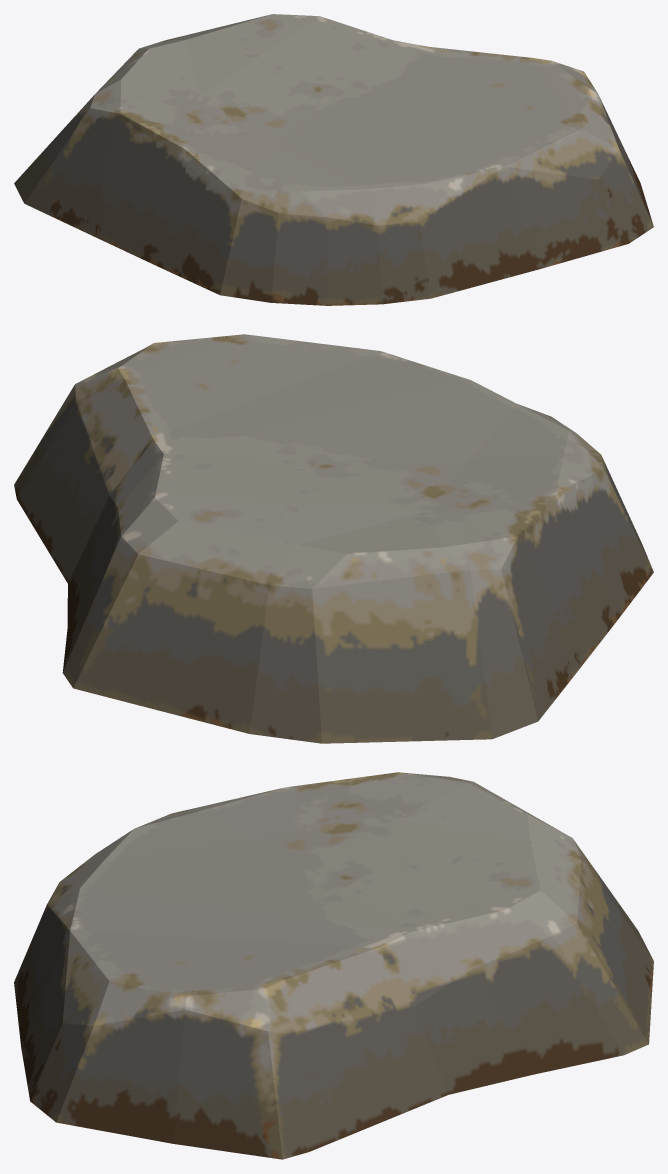
File: Pebble_Round_2__go_coast.glb
The picture shows the model from 3 angles, top to bottom: view 1: azimuth 30°, elevation 25°; view 2: azimuth 150°, elevation 25°; view 3: azimuth 270°, elevation 25°; orthographic projection. The views are drawn at different scales.
Visible parts, largest first — view 1: Pebble_Round_2; view 2: Pebble_Round_2; view 3: Pebble_Round_2.
Boxes of the visible parts, <box> form: Pebble_Round_2: <box>14,14,653,305</box>; Pebble_Round_2: <box>14,334,653,743</box>; Pebble_Round_2: <box>14,772,653,1159</box>.
Bounding box in the file's own units: 0.4495 × 0.0942 × 0.4111.
Materials: 1 (1 with a texture image).
